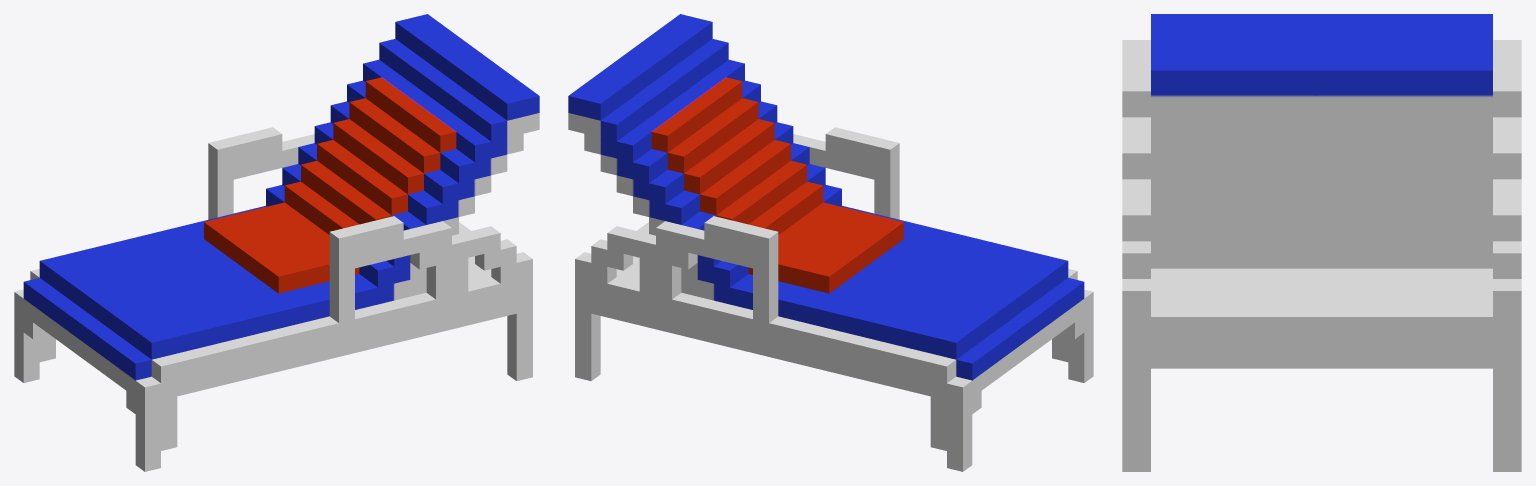
The model's file is beach_chair_2.fbx.
3 renders of one model, left to right at view 1: azimuth 30°, elevation 25°; view 2: azimuth 150°, elevation 25°; view 3: azimuth 270°, elevation 25°, orthographic. The views are drawn at different scales.
Visible parts, largest first — view 1: beach_chair_2; view 2: beach_chair_2; view 3: beach_chair_2.
Boxes of the visible parts, x1,y1,x2,y2 form: beach_chair_2: (14, 14, 539, 471); beach_chair_2: (568, 14, 1093, 471); beach_chair_2: (1122, 14, 1521, 471).
Bounding box in the file's own units: 25 × 16 × 14.
